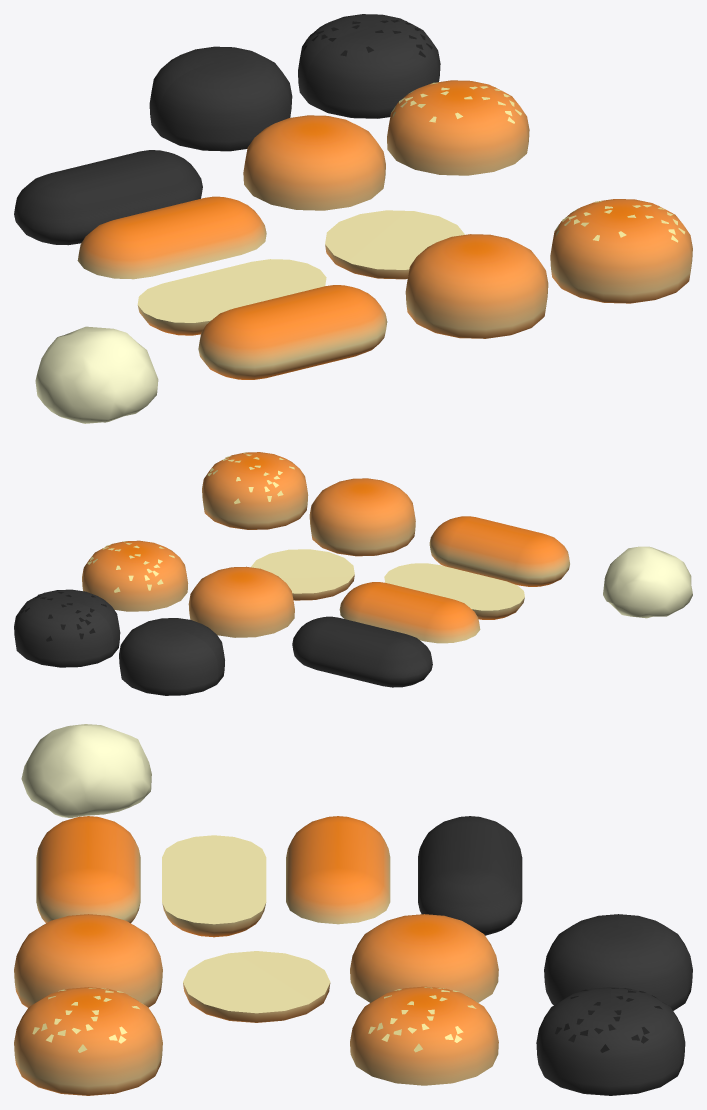
File: bread.fbx
3 renders of one model, top to bottom at view 1: azimuth 30°, elevation 25°; view 2: azimuth 150°, elevation 25°; view 3: azimuth 270°, elevation 25°, orthographic. The views are drawn at different scales.
Visible parts, largest first — view 1: sandwichBun, burgerBun, burgerBun_Sesame, burgerBun_Burnt, burgerBun_Sesame_Burnt, burgerBun_Sesame_Top, burgerBun_Top, sandwichBun_Burnt, sandwichBun_Top, dough, sandwichBun_Bottom, burgerBun_Bottom; view 2: sandwichBun_Burnt, sandwichBun, burgerBun_Sesame_Burnt, burgerBun, burgerBun_Sesame, burgerBun_Burnt, burgerBun_Top, burgerBun_Sesame_Top, sandwichBun_Top, dough, sandwichBun_Bottom, burgerBun_Bottom; view 3: burgerBun_Sesame, burgerBun_Sesame_Burnt, burgerBun_Sesame_Top, burgerBun_Burnt, burgerBun, sandwichBun_Burnt, burgerBun_Top, sandwichBun_Top, dough, sandwichBun, sandwichBun_Bottom, burgerBun_Bottom.
Part boxes in pixels (x1=…): sandwichBun: x1=198, y1=285, x2=387, y2=379; burgerBun: x1=405, y1=234, x2=548, y2=338; burgerBun_Sesame: x1=550, y1=199, x2=692, y2=303; burgerBun_Burnt: x1=149, y1=46, x2=292, y2=151; burgerBun_Sesame_Burnt: x1=298, y1=14, x2=440, y2=118; burgerBun_Sesame_Top: x1=387, y1=80, x2=529, y2=175; burgerBun_Top: x1=243, y1=115, x2=385, y2=210; sandwichBun_Burnt: x1=14, y1=150, x2=202, y2=245; sandwichBun_Top: x1=77, y1=196, x2=266, y2=279; dough: x1=35, y1=326, x2=158, y2=423; sandwichBun_Bottom: x1=137, y1=259, x2=326, y2=335; burgerBun_Bottom: x1=325, y1=210, x2=464, y2=279; sandwichBun_Burnt: x1=292, y1=616, x2=432, y2=687; sandwichBun: x1=429, y1=516, x2=569, y2=586; burgerBun_Sesame_Burnt: x1=14, y1=589, x2=120, y2=667; burgerBun: x1=309, y1=478, x2=415, y2=556; burgerBun_Sesame: x1=202, y1=452, x2=308, y2=529; burgerBun_Burnt: x1=119, y1=618, x2=224, y2=695; burgerBun_Top: x1=188, y1=566, x2=294, y2=637; burgerBun_Sesame_Top: x1=82, y1=540, x2=188, y2=611; sandwichBun_Top: x1=339, y1=582, x2=480, y2=643; dough: x1=603, y1=546, x2=692, y2=618; sandwichBun_Bottom: x1=384, y1=563, x2=524, y2=619; burgerBun_Bottom: x1=251, y1=549, x2=354, y2=600; burgerBun_Sesame: x1=14, y1=987, x2=162, y2=1095; burgerBun_Sesame_Burnt: x1=536, y1=987, x2=685, y2=1095; burgerBun_Sesame_Top: x1=350, y1=986, x2=498, y2=1085; burgerBun_Burnt: x1=544, y1=914, x2=692, y2=1010; burgerBun: x1=14, y1=914, x2=162, y2=1007; sandwichBun_Burnt: x1=418, y1=816, x2=522, y2=935; burgerBun_Top: x1=350, y1=914, x2=498, y2=1002; sandwichBun_Top: x1=286, y1=816, x2=390, y2=924; dough: x1=21, y1=724, x2=151, y2=817; sandwichBun: x1=36, y1=816, x2=140, y2=923; sandwichBun_Bottom: x1=162, y1=835, x2=266, y2=937; burgerBun_Bottom: x1=183, y1=951, x2=330, y2=1022.
Size of the model in its own units: 7.18 by 6.38 by 0.812.
